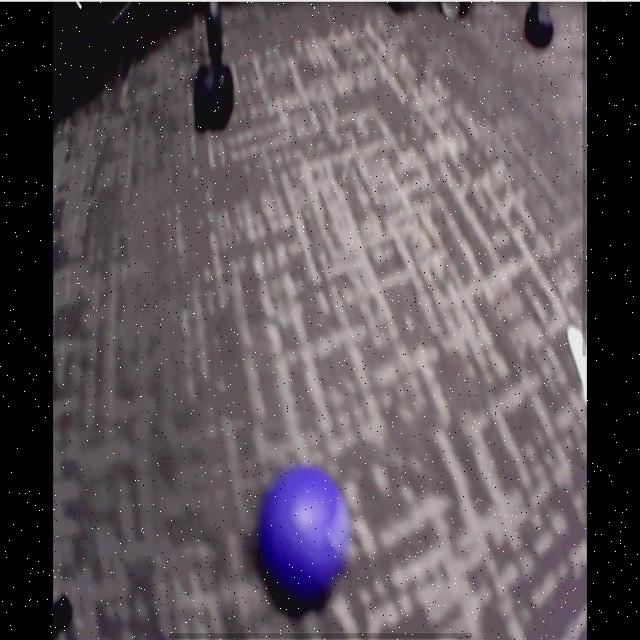ball: (260, 464, 350, 602)
